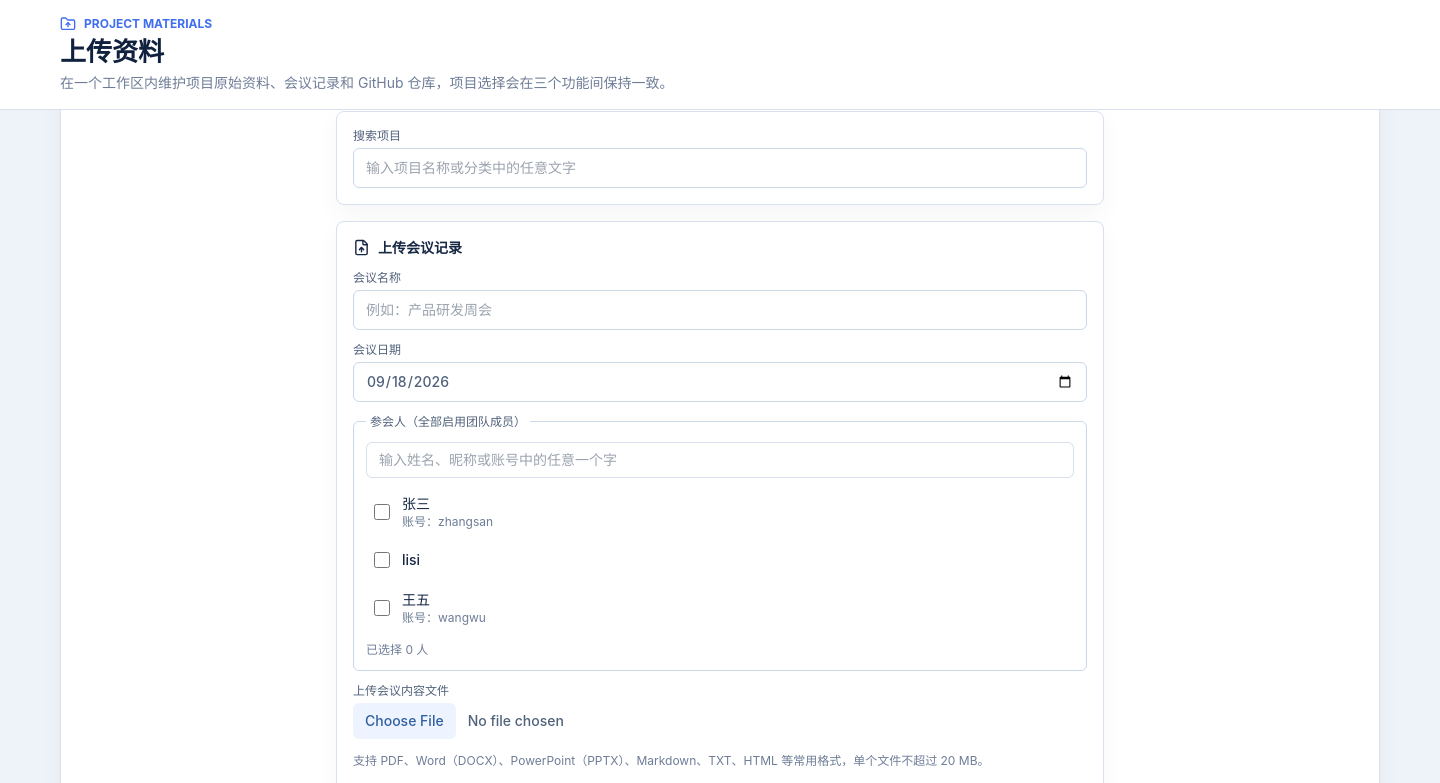
MeetingNotesPage › filters all active team members by any single character and keeps checkbox selection
This screenshot has width=1440, height=783.
(page scrolled)
Expected: the checkbox labelled "张三 账号：zhangsan" is shown, x1=374 y1=504 x2=390 y2=520
Type "王" into the field named "搜索参会人" at (720, 460), box x1=366 y1=442 x2=1074 y2=478
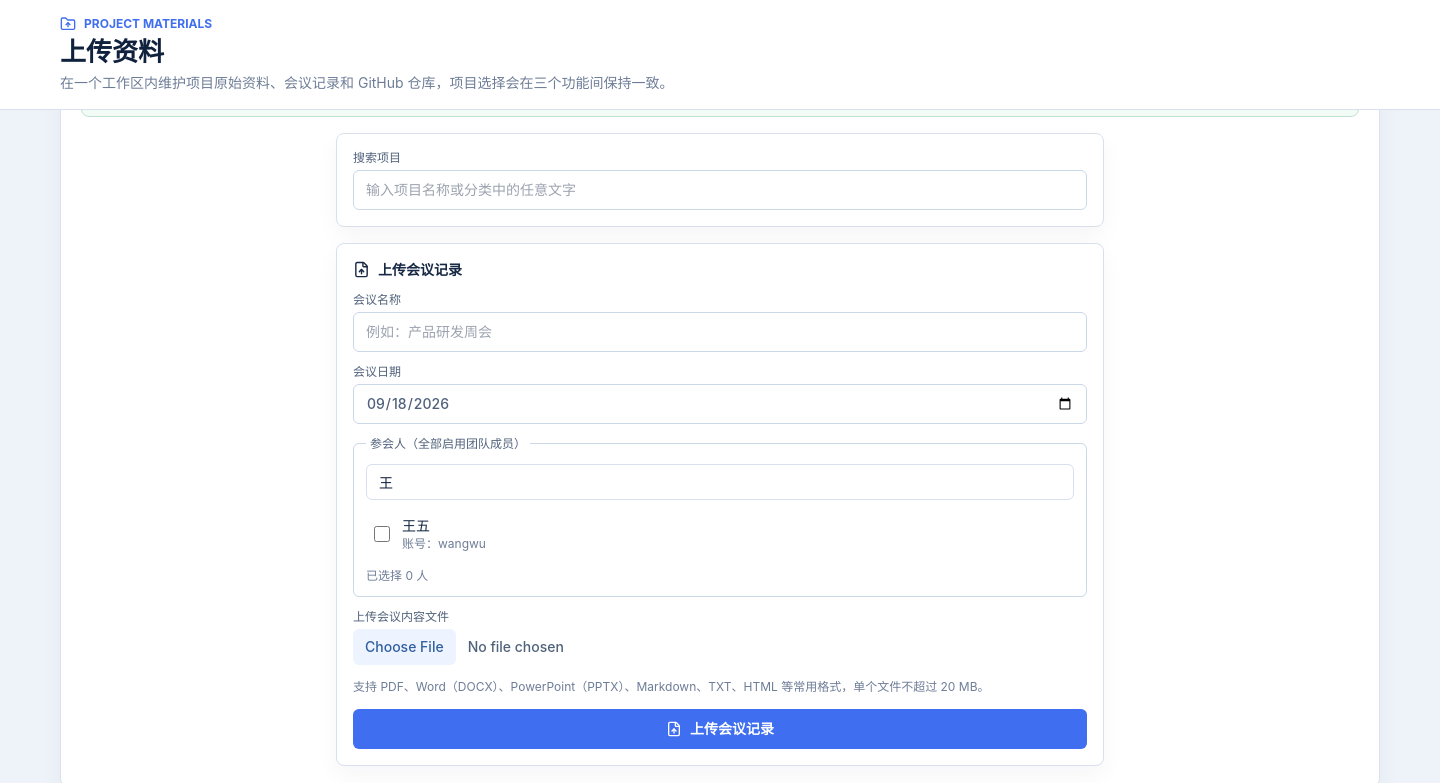
Now the text "张三" is gone
Click the checkbox labelled "王五 账号：wangwu" at (382, 534), box x1=374 y1=526 x2=390 y2=542
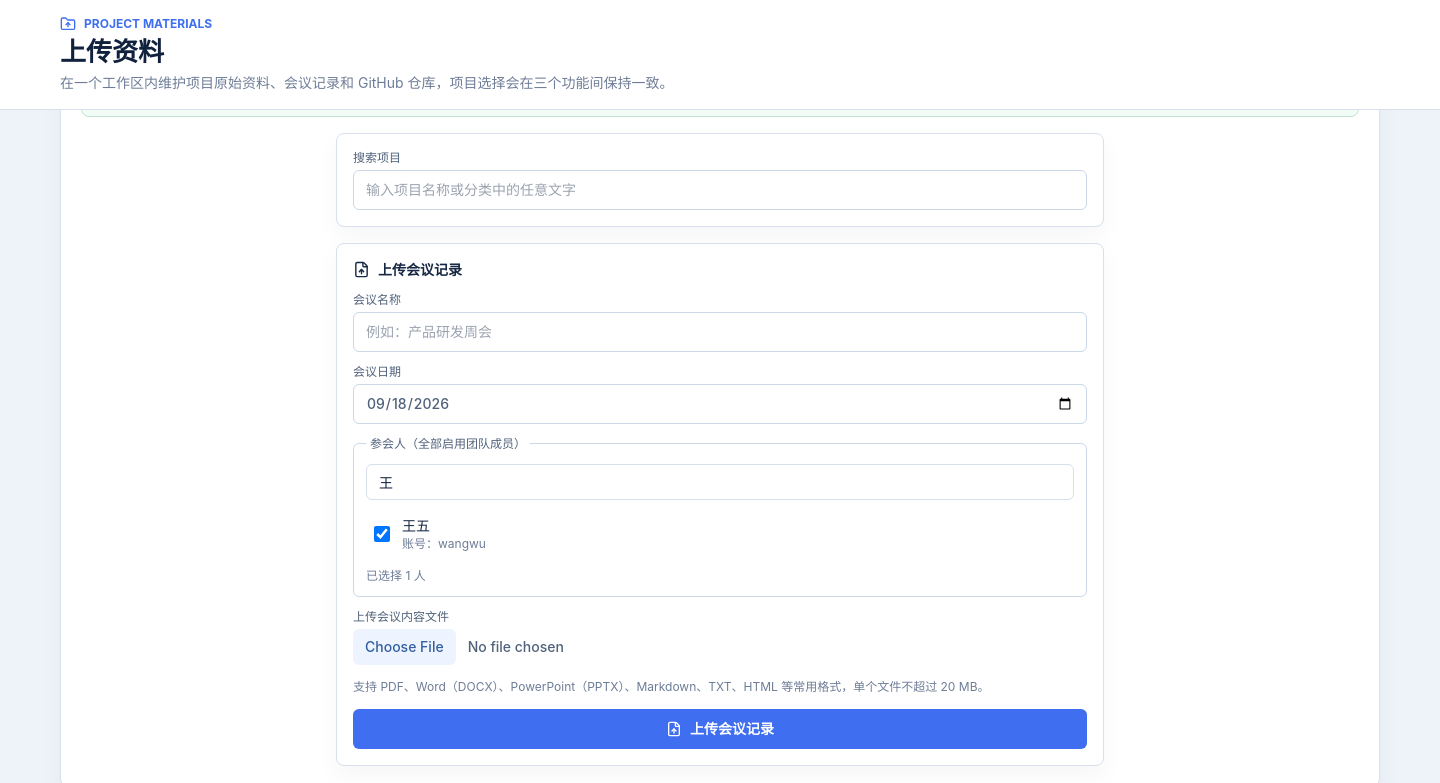
Now the text "已选择 1 人" is shown, box x1=366 y1=568 x2=426 y2=582
